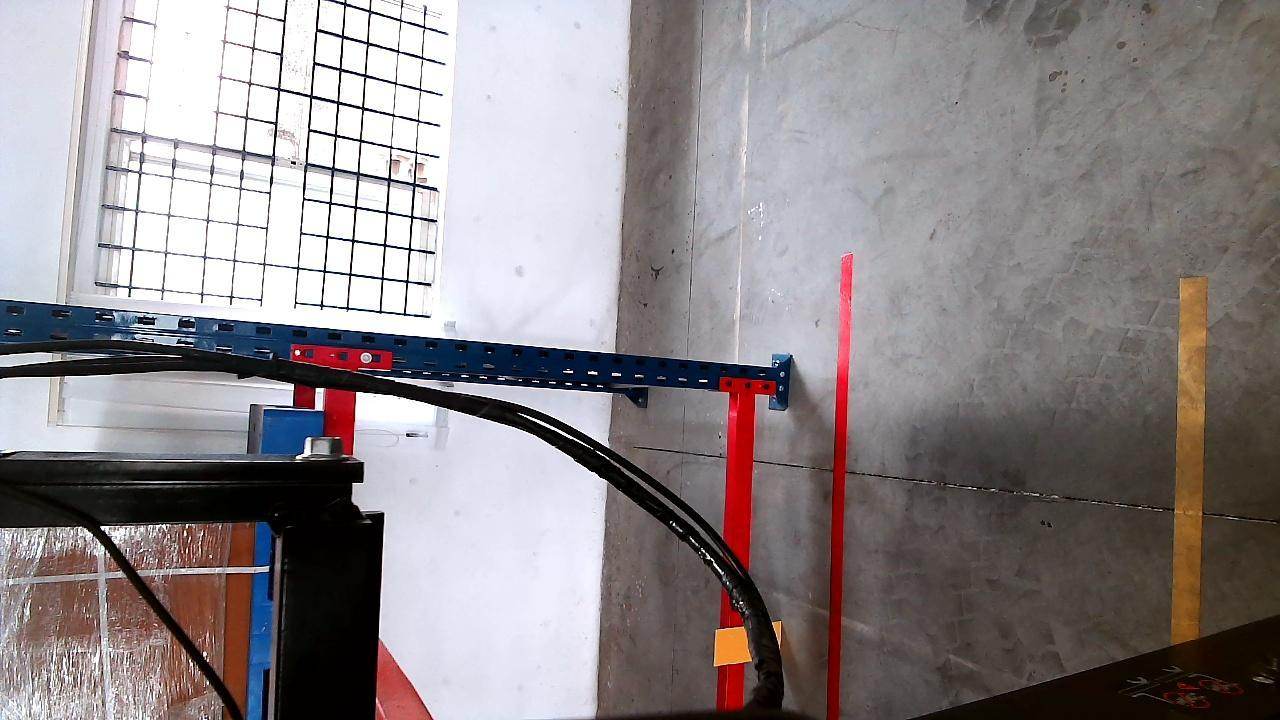red_line: (825, 250, 855, 720)
yellow_line: (1173, 276, 1208, 636)
